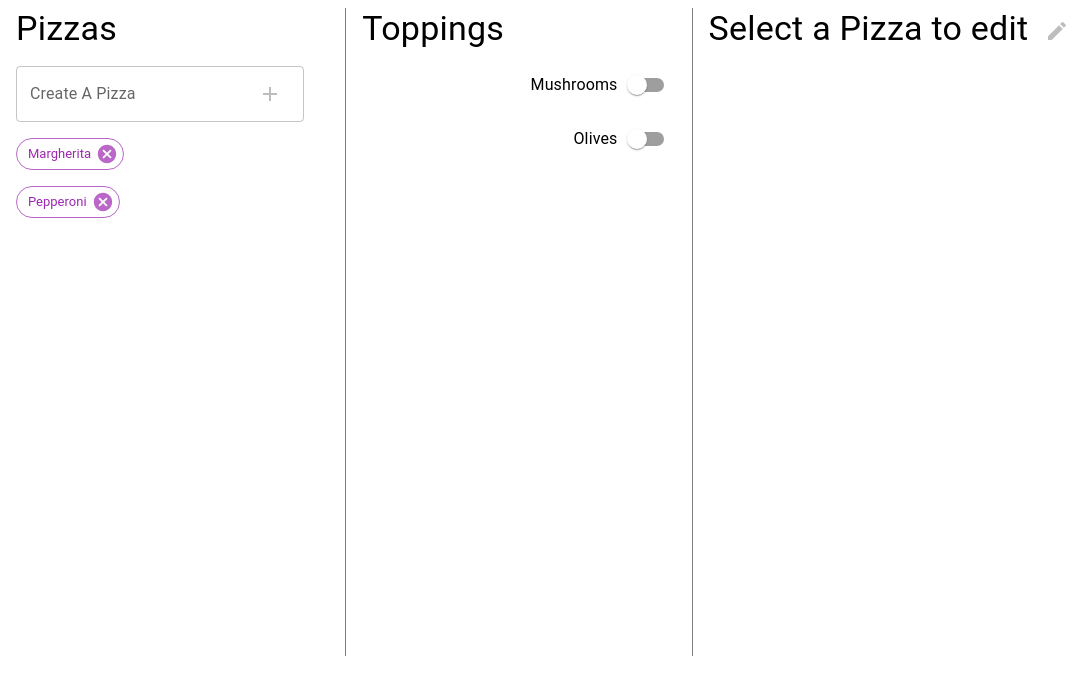
Chefs › resets all pizza topping switches and clears the selected pizza when the selected pizza is deleted
Click the button "Margherita" at point(70, 154), box [16, 138, 124, 170]
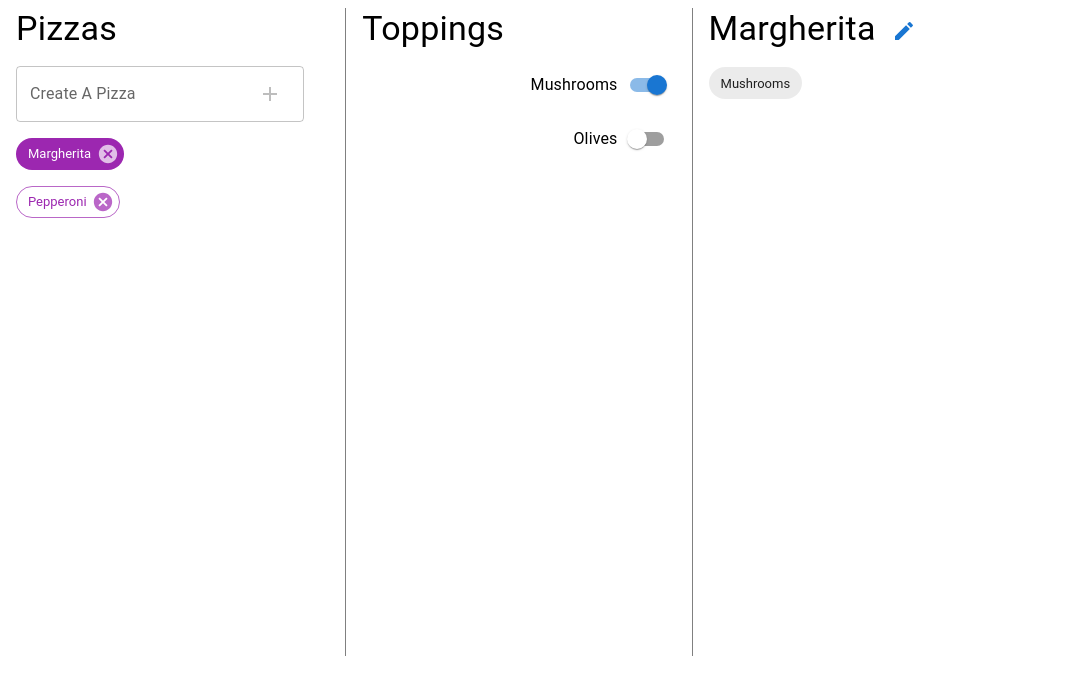
Expected: the checkbox labelled "Mushrooms" is checked, [530, 75, 666, 95]
Expected: the element with test id "pizza-topping-chip-1" is shown, [708, 67, 802, 99]
Click the 1st icon with test id "CancelIcon" at point(108, 154), box [97, 143, 119, 165]
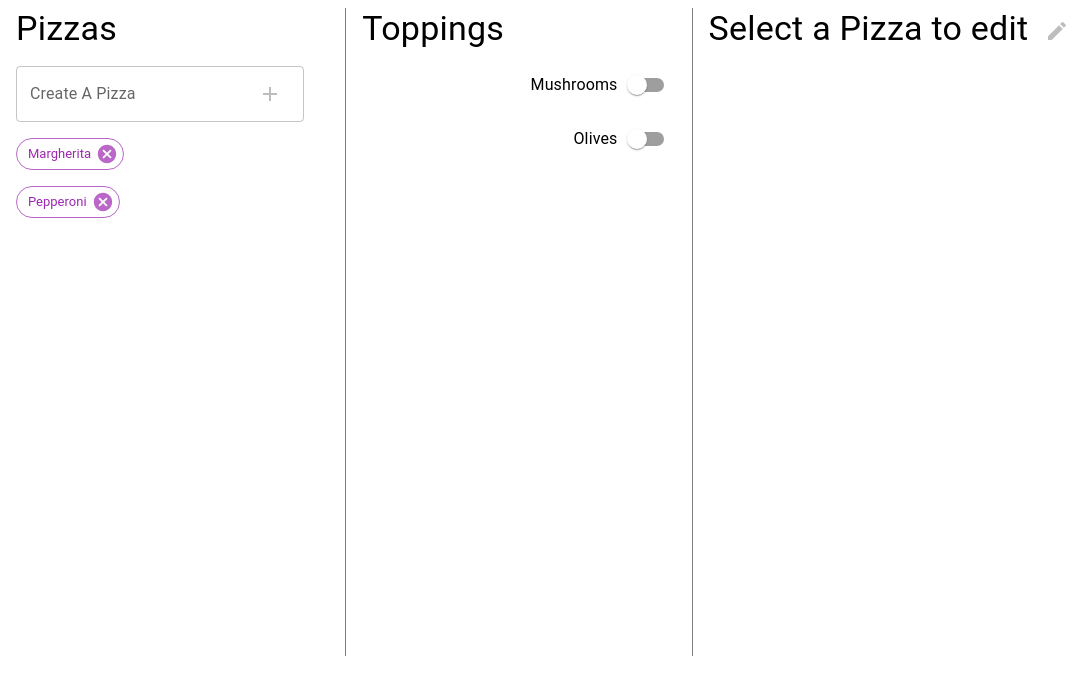
Expected: the element with test id "editable-title-static-text" reads "Select a Pizza to edit", [708, 8, 1028, 48]
Expected: the element with test id "pizza-topping-chip-1" is gone
Expected: the checkbox labelled "Mushrooms" is not checked, [530, 75, 664, 95]
